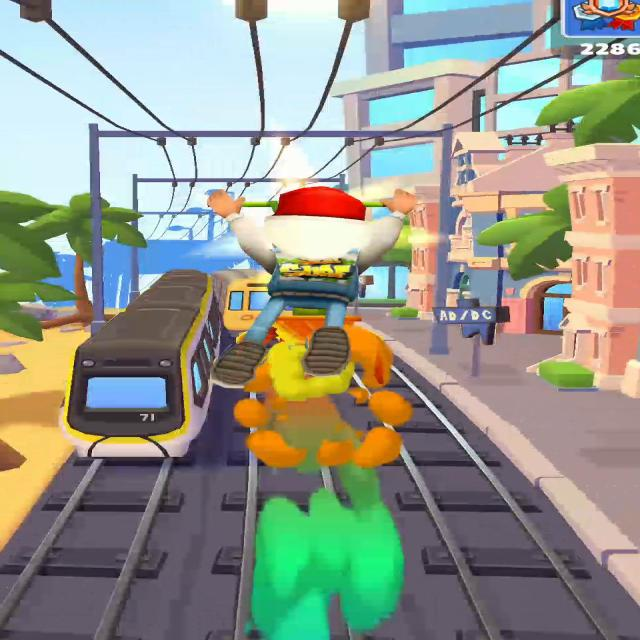train: (59, 269, 228, 458), (211, 269, 270, 332)
